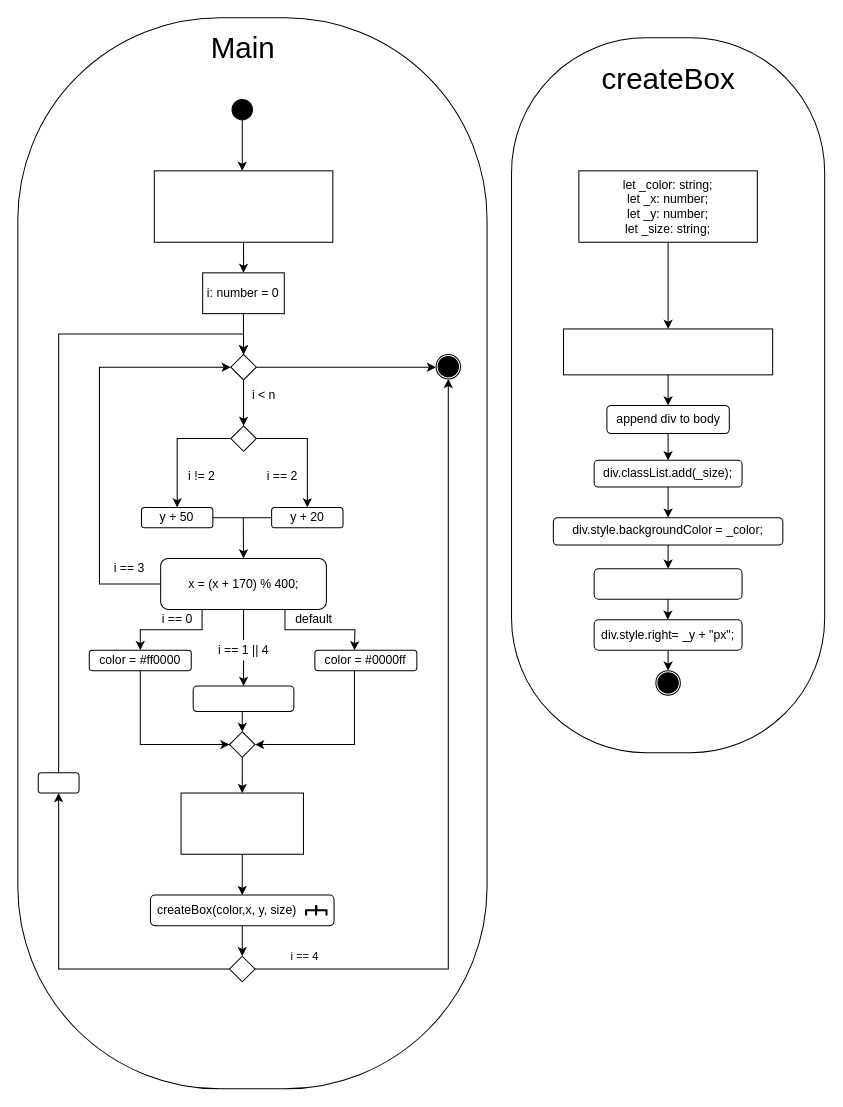
Some shapes in this 843 by 1107 pixel diagram are drawn without their labels. Here are the shapes that lost their labels. From the top down, the box of each, then its label:
(153, 170, 333, 242): Let n: number = 5; let color: string; let x: number= 0; let y: number = 0;
(563, 328, 773, 375): let div: HTMLDivElement = document.createElement("div");
(593, 568, 742, 599): div.style.left = _x + "px";
(192, 685, 294, 711): color = #00ff00
(37, 772, 79, 793): i ++
(180, 792, 303, 854): sizes: string[ ] = ["big", "medium", "small"]
